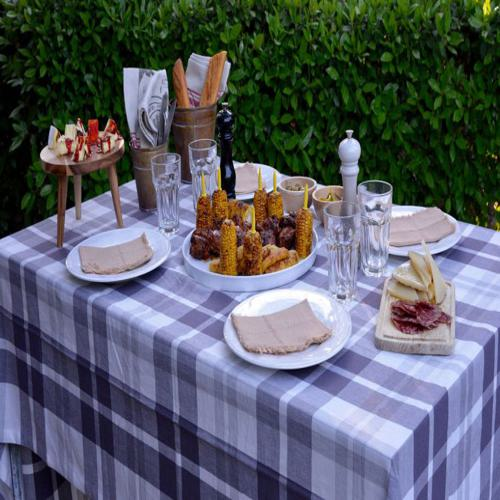copa: (357, 183, 393, 276)
vaso: (321, 203, 356, 302), (151, 152, 182, 236), (187, 142, 217, 215)
